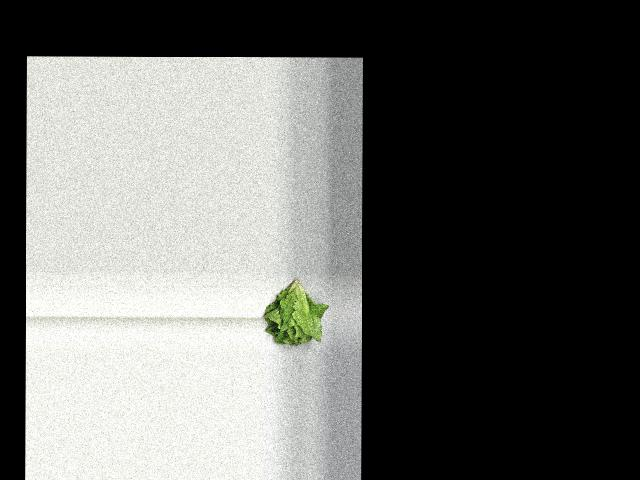lettuce: (259, 273, 327, 349)
